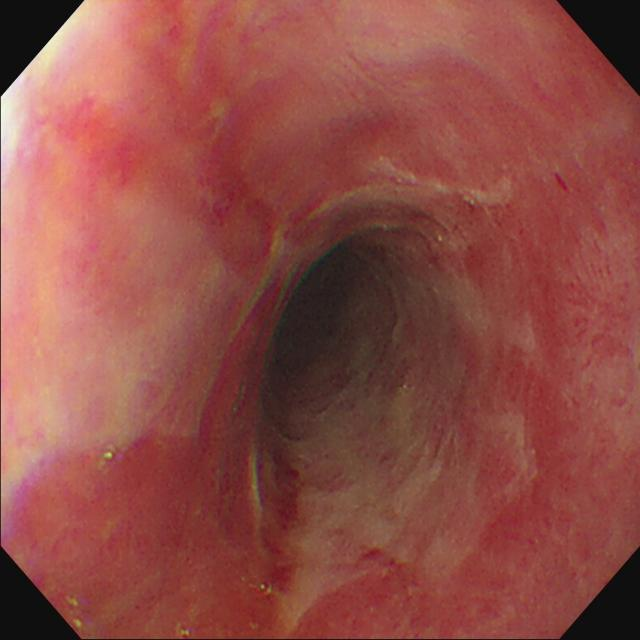A: (476, 347, 640, 640), (29, 451, 246, 638), (467, 173, 640, 347), (302, 546, 475, 640)
C: (267, 451, 314, 594)
